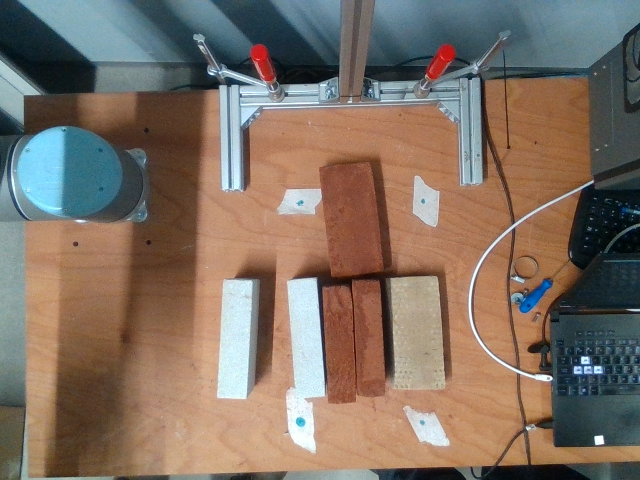brick: (320, 163, 380, 275), (388, 278, 444, 388)
brick-side: (288, 279, 324, 397), (353, 282, 388, 396), (324, 288, 359, 402), (219, 281, 251, 398)
